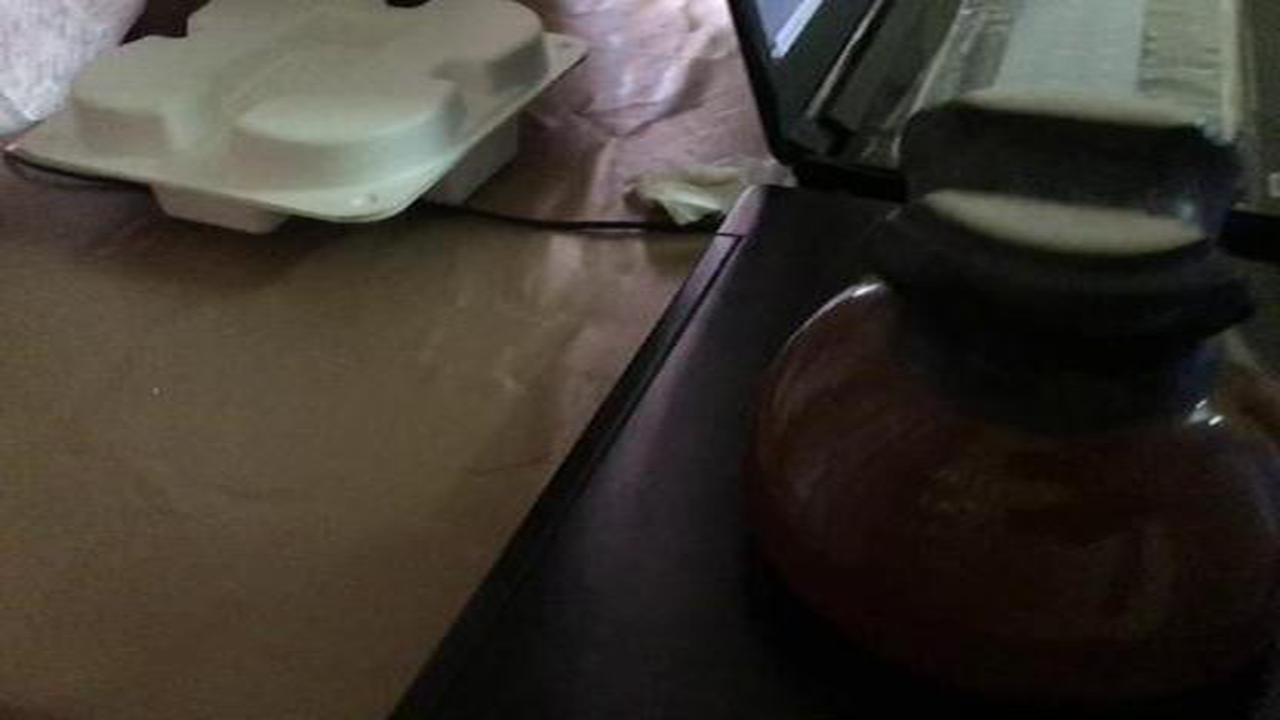insulator_pin: (730, 85, 1280, 696)
